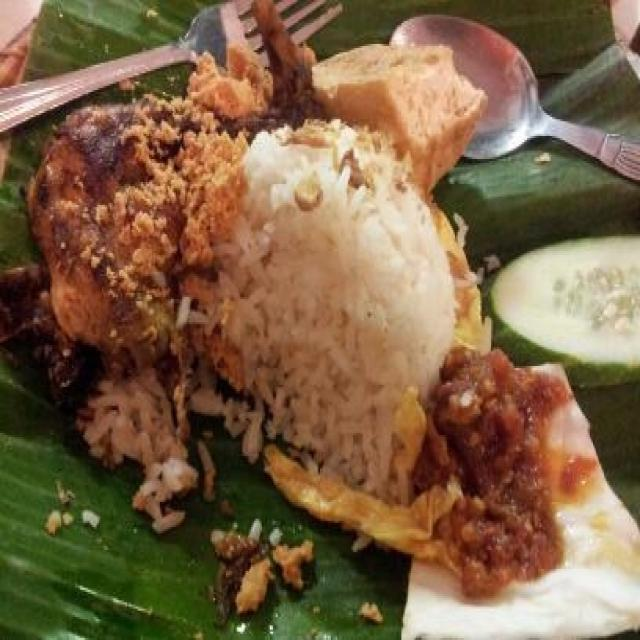米饭主食: (15, 29, 622, 615)
